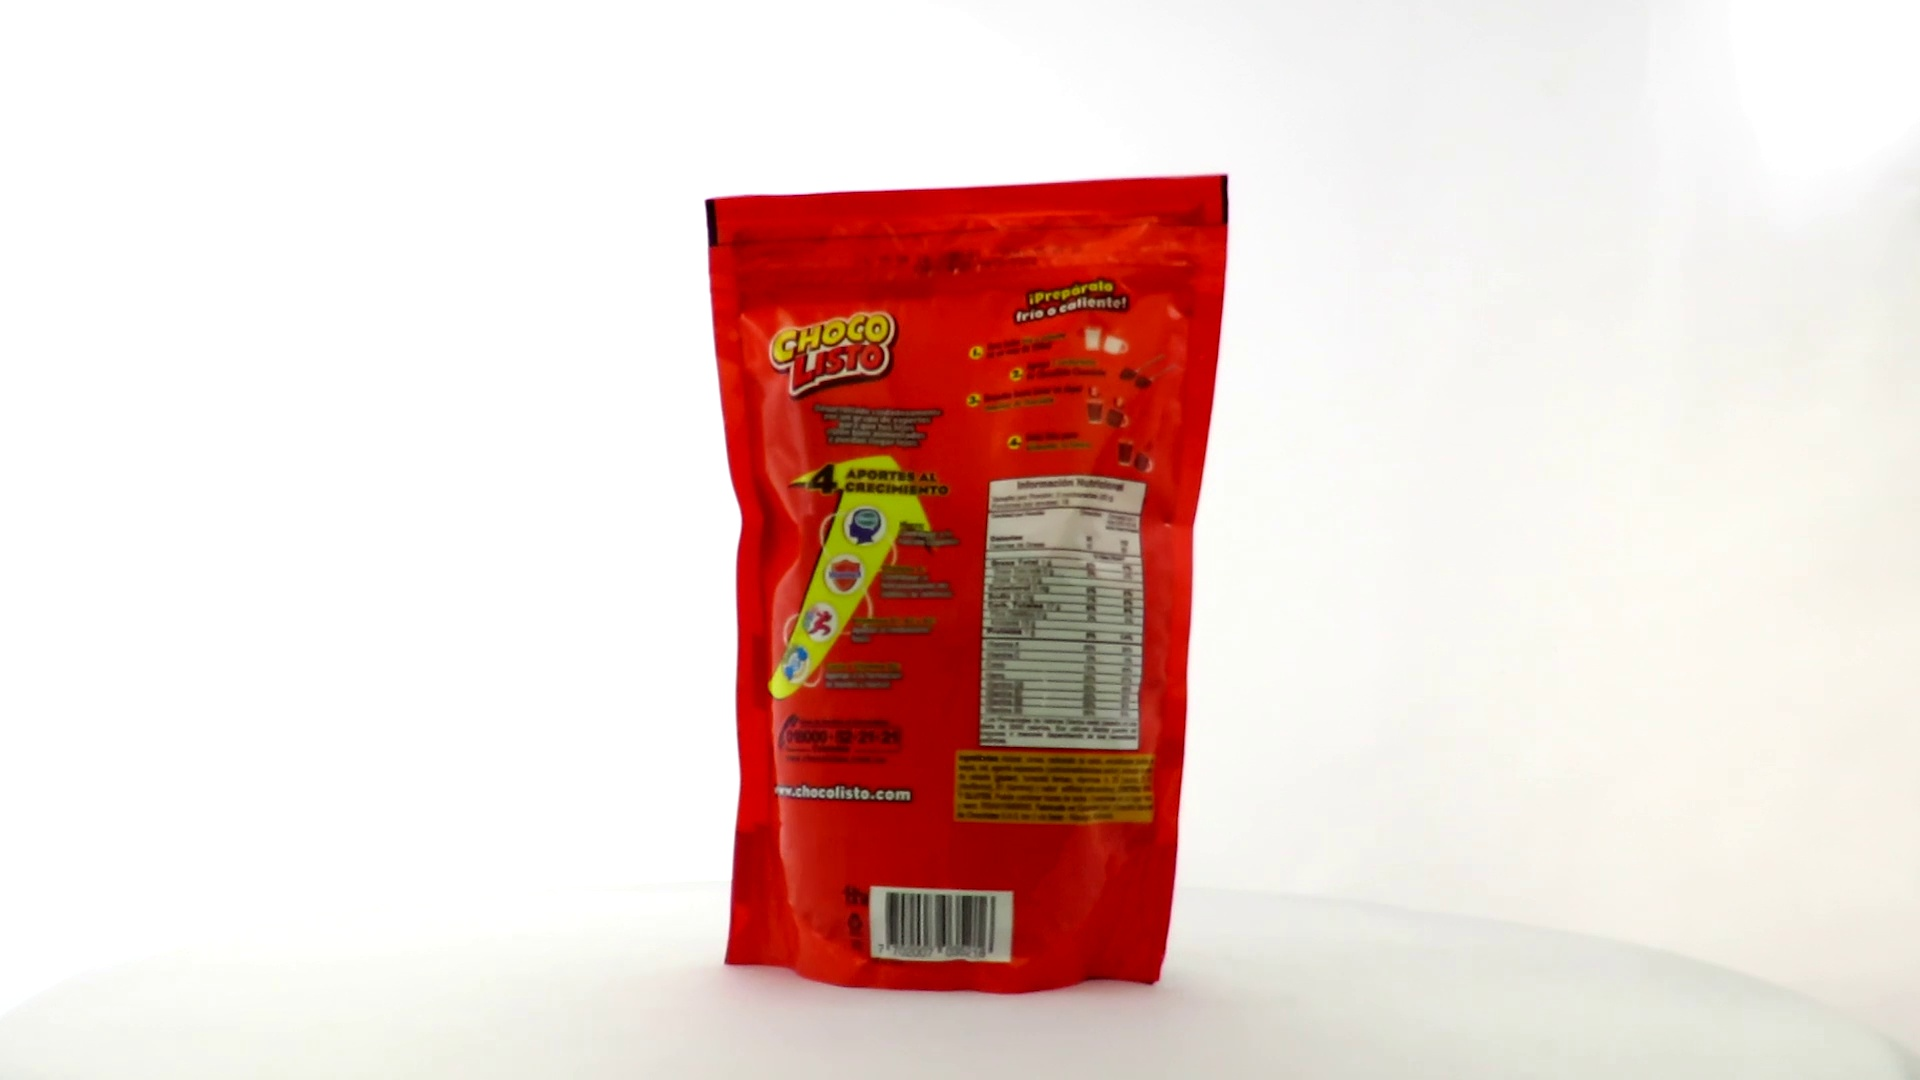COL0170103DYP36000: (700, 170, 1236, 1001)
